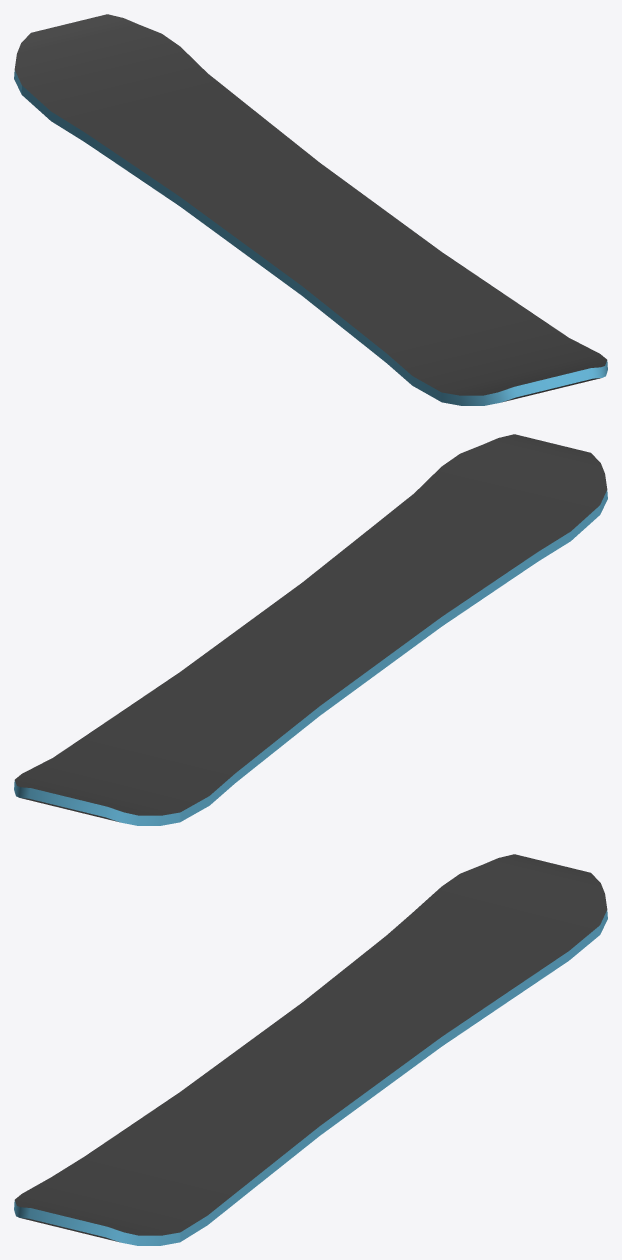
Rendered from snowboard.fbx.
The picture shows the model from 3 angles, top to bottom: view 1: azimuth 30°, elevation 25°; view 2: azimuth 150°, elevation 25°; view 3: azimuth 330°, elevation 25°; orthographic projection.
Parts seen in each view (by area): view 1: Plane; view 2: Plane; view 3: Plane.
Part boxes in pixels (x1,y1,x2,y2): Plane: [14, 14, 607, 405]; Plane: [14, 434, 607, 825]; Plane: [14, 854, 607, 1245].
Bounding box in the file's own units: 84.92 × 17.27 × 453.
